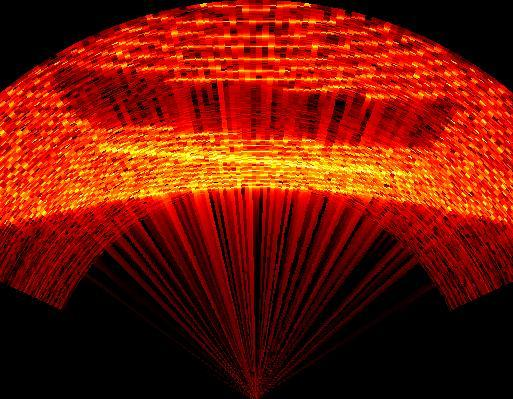pipe: (52, 74, 468, 148)
